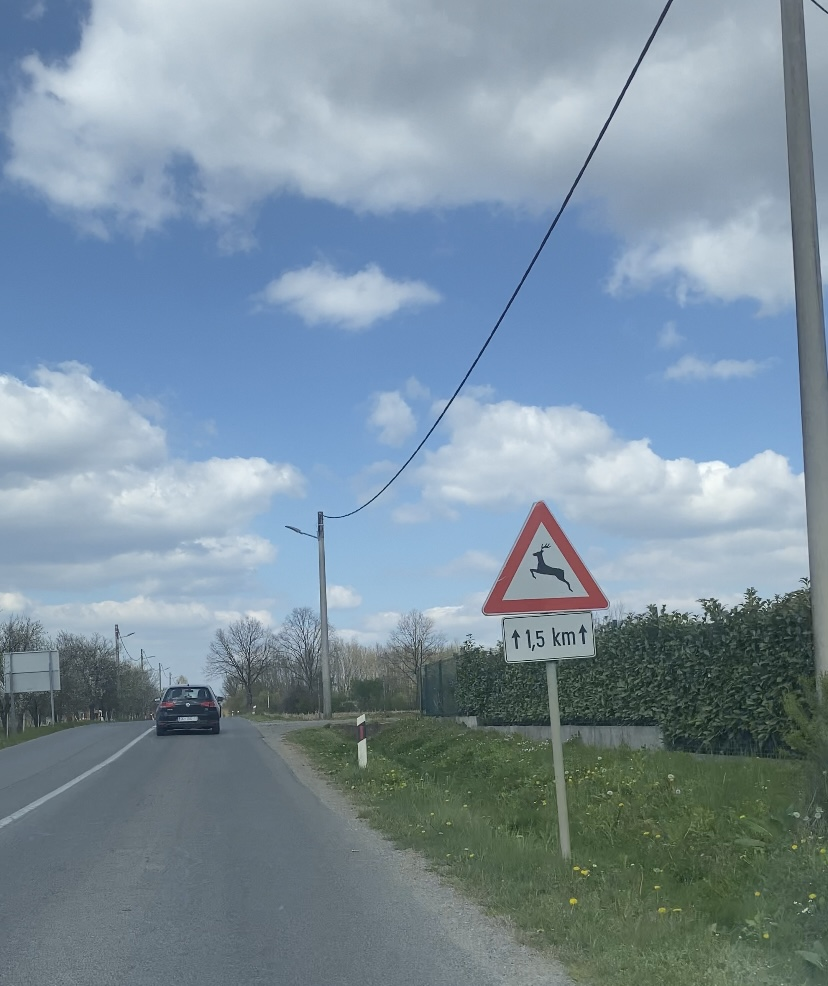Divljač na cesti: (482, 500, 610, 615)
